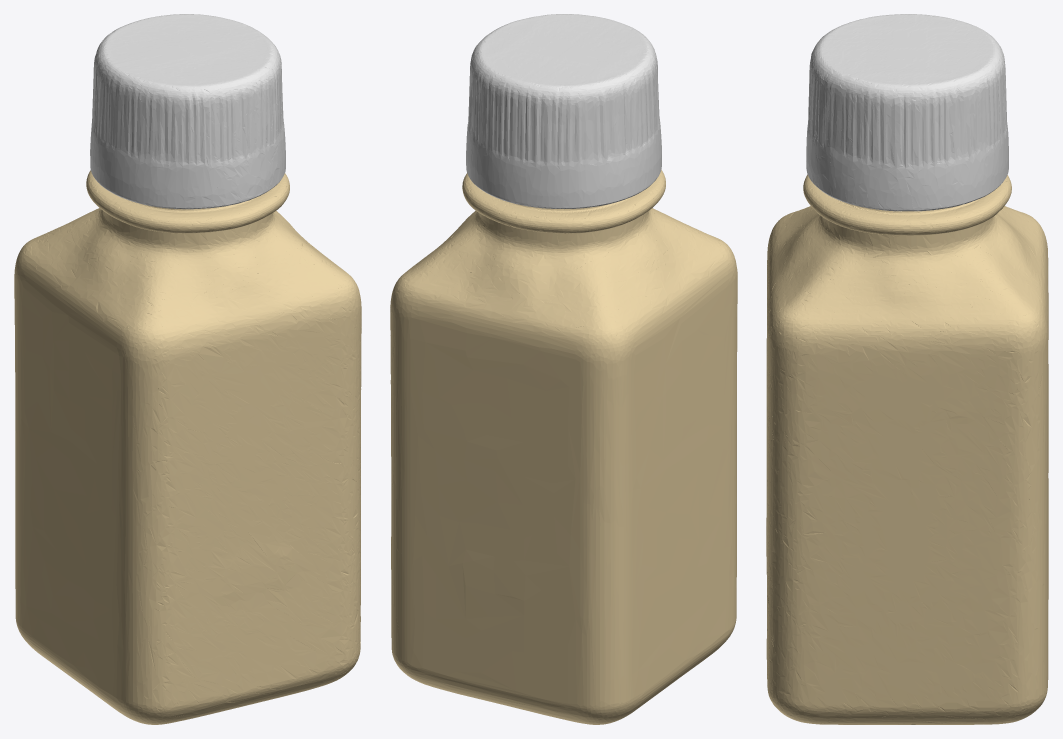
File: square bottle.glb
3 renders of one model, left to right at view 1: azimuth 30°, elevation 25°; view 2: azimuth 150°, elevation 25°; view 3: azimuth 270°, elevation 25°, orthographic. The views are drawn at different scales.
Parts seen in each view (by area): view 1: geometry_0; view 2: geometry_0; view 3: geometry_0.
Part boxes in pixels (box(x1,y1,x2,y2)): geometry_0: box(14, 14, 361, 724); geometry_0: box(390, 14, 737, 724); geometry_0: box(766, 14, 1048, 724).
Bounding box in the file's own units: 0.8038 × 1.99 × 0.8138.
